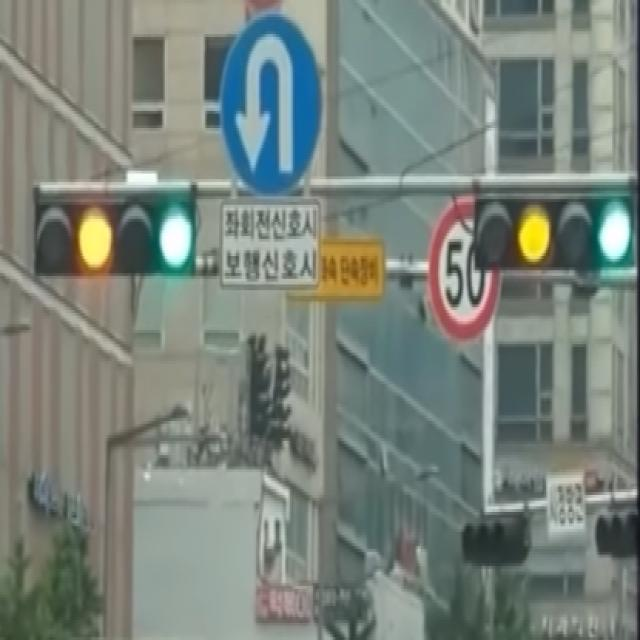Green Light: (158, 196, 194, 273), (594, 197, 632, 266)
Yellow Light: (76, 199, 114, 275), (515, 198, 552, 266)
